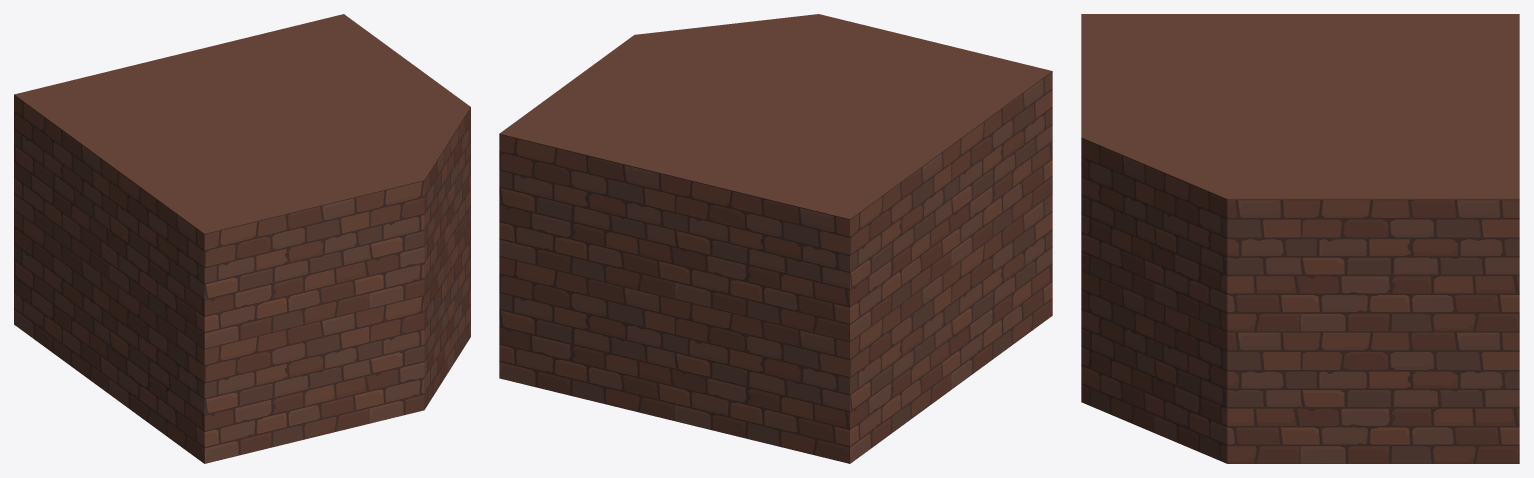
The model's file is Bock_B5.fbx.
The picture shows the model from 3 angles, left to right: view 1: azimuth 30°, elevation 25°; view 2: azimuth 150°, elevation 25°; view 3: azimuth 270°, elevation 25°; orthographic projection. The views are drawn at different scales.
Visible parts, largest first — view 1: Bock_B5; view 2: Bock_B5; view 3: Bock_B5.
Boxes of the visible parts, box(x1,y1,x2,y2) form: Bock_B5: box(14, 14, 470, 463); Bock_B5: box(499, 14, 1052, 463); Bock_B5: box(1081, 14, 1519, 463).
Bounding box in the file's own units: 600 × 400 × 600.
